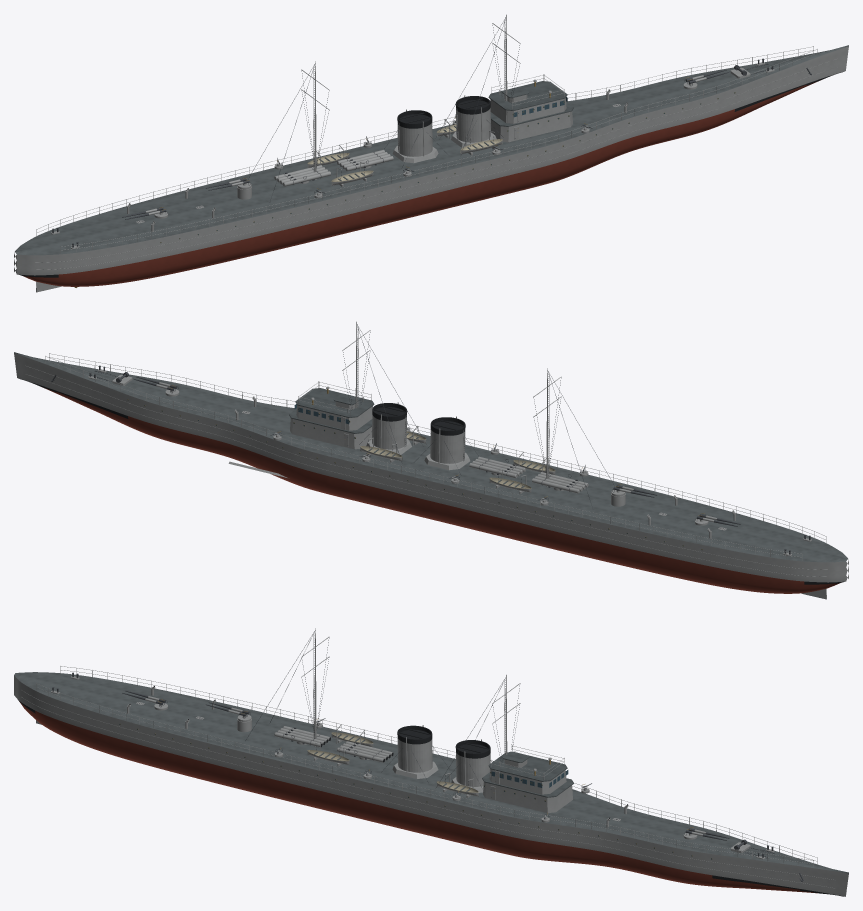
File: mare_dd31.glb
The picture shows the model from 3 angles, top to bottom: view 1: azimuth 30°, elevation 25°; view 2: azimuth 150°, elevation 25°; view 3: azimuth 330°, elevation 25°; orthographic projection.
Parts seen in each view (by area): view 1: Lampo torpedo destroyer; view 2: Lampo torpedo destroyer; view 3: Lampo torpedo destroyer.
Part boxes in pixels (x1,y1,x2,y2): Lampo torpedo destroyer: (14,14,848,292); Lampo torpedo destroyer: (14,321,848,599); Lampo torpedo destroyer: (14,628,848,896).
Size of the model in its own units: 119 by 22.52 by 11.96.
Materials: 9 (8 with a texture image).
